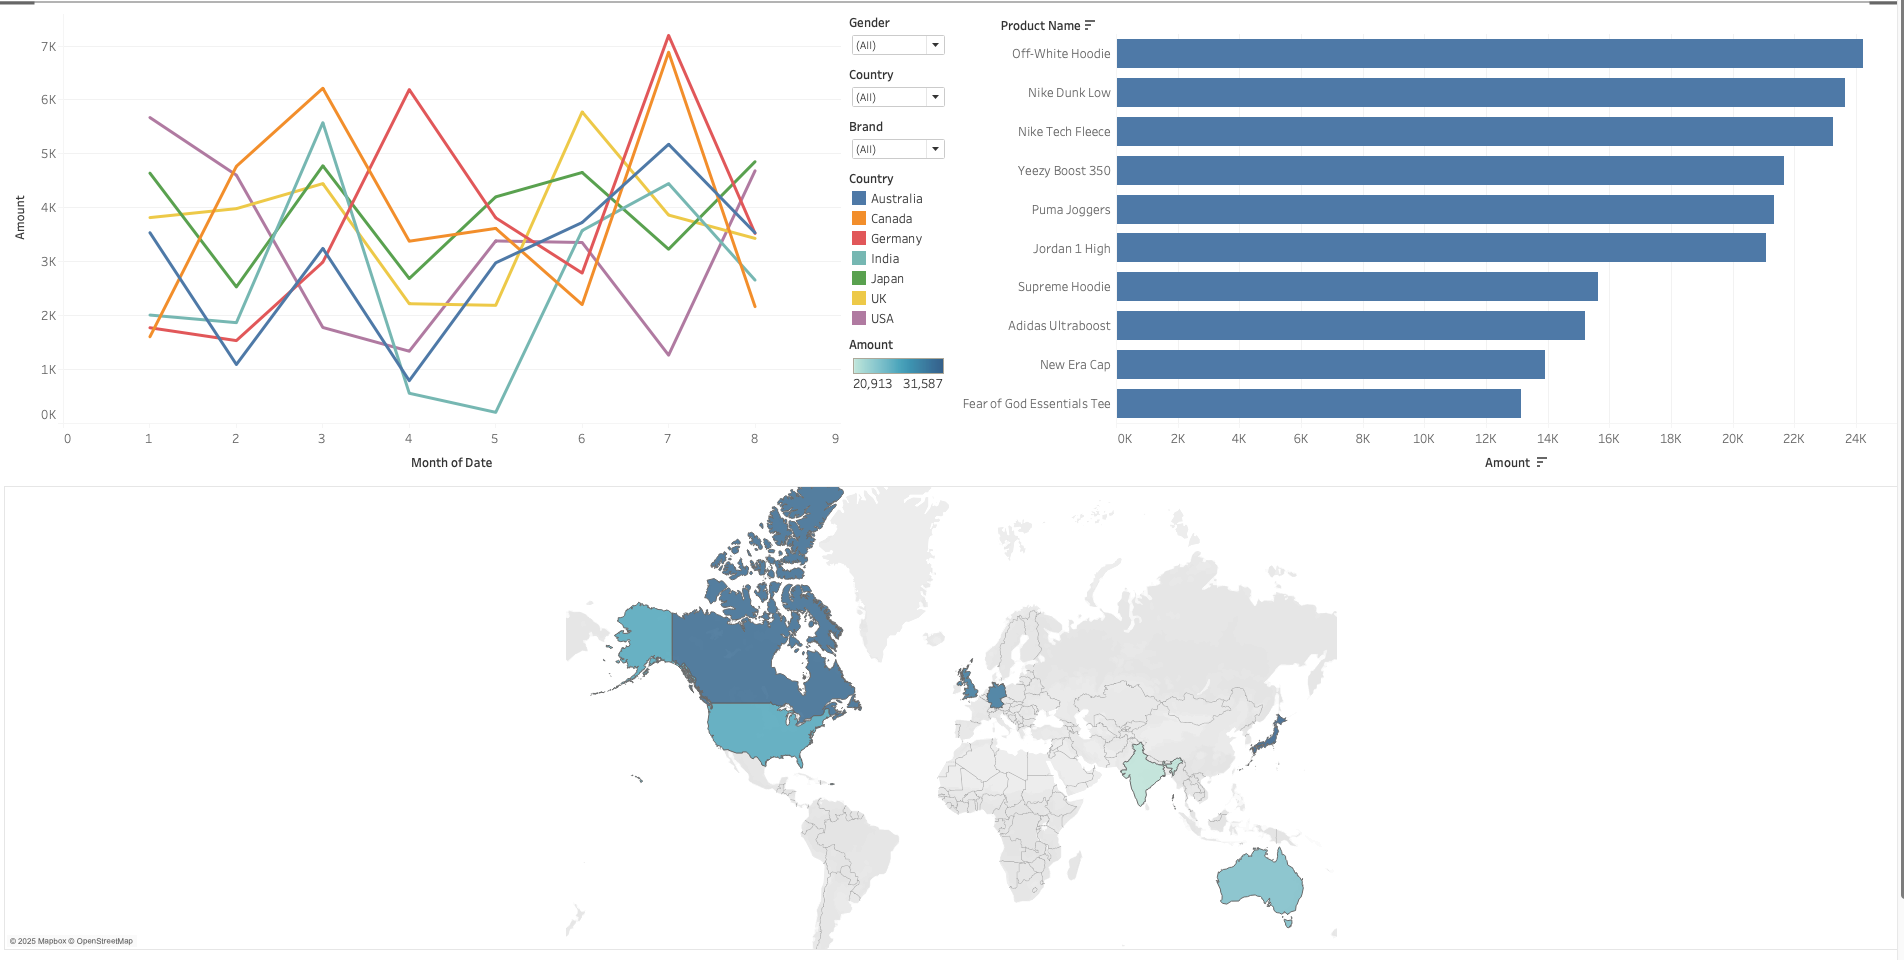

This screenshot's page, from the dashboard's own definition file:
{"tool":"tableau","page":{"name":"Sneaker Sales Dashboard","canvas":[650,860],"ordinal":0},"visuals":[{"type":"worksheet","title":"Sheet 1","mark":"Automatic","rows":["amount"],"cols":["date"],"box":[8,8,210,422]},{"type":"filter","title":"Sheet 1","param":"[federated.1dnx13k0vhrqze1d2w5g90x27i96].[none:gender:nk]","box":[218,8,107,52]},{"type":"worksheet","title":"Sheet 2","mark":"Automatic","rows":["product_name"],"cols":["amount"],"box":[325,8,317,422]},{"type":"filter","title":"Sheet 1","param":"[federated.1dnx13k0vhrqze1d2w5g90x27i96].[none:country:nk]","box":[218,60,107,52]},{"type":"filter","title":"Sheet 1","param":"[federated.1dnx13k0vhrqze1d2w5g90x27i96].[none:brand:nk]","box":[218,112,107,52]},{"type":"legend","title":"Sheet 1","param":"[federated.1dnx13k0vhrqze1d2w5g90x27i96].[none:country:nk]","box":[218,164,107,166]},{"type":"legend","title":"Sheet 3","param":"[federated.1dnx13k0vhrqze1d2w5g90x27i96].[sum:amount:qk]","box":[218,330,107,65]},{"type":"worksheet","title":"Sheet 3","mark":"Automatic","box":[8,430,634,422]}]}

Visuals, with their boxes on the page's 650x860 design canvas (x1, y1, x2, y2). These are canvas units, not pixel positions in the 1904x960 screenshot, which may show the page scaled, cropped or inside an application window:
"Sheet 1" worksheet: rect(8, 8, 218, 430)
"Sheet 1" filter: rect(218, 8, 325, 60)
"Sheet 2" worksheet: rect(325, 8, 642, 430)
"Sheet 1" filter: rect(218, 60, 325, 112)
"Sheet 1" filter: rect(218, 112, 325, 164)
"Sheet 1" legend: rect(218, 164, 325, 330)
"Sheet 3" legend: rect(218, 330, 325, 395)
"Sheet 3" worksheet: rect(8, 430, 642, 852)
